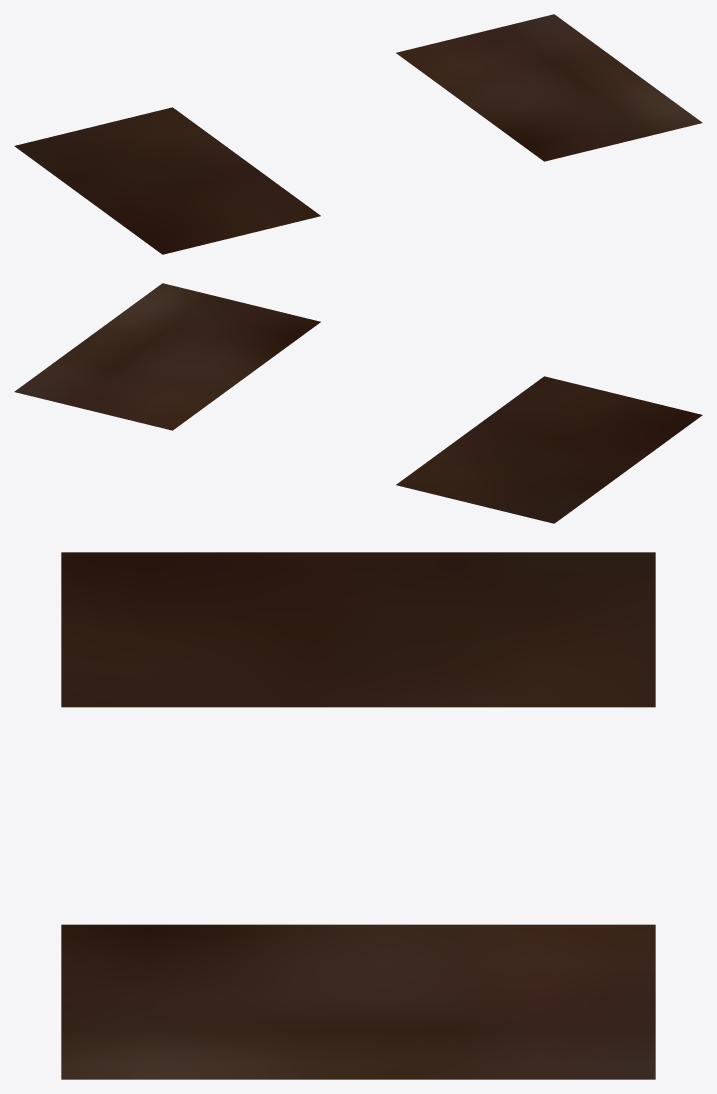
The model's file is pir_m_bld_wal_spanish_archB_footprint.fbx.
3 renders of one model, top to bottom at view 1: azimuth 30°, elevation 25°; view 2: azimuth 150°, elevation 25°; view 3: azimuth 270°, elevation 25°, orthographic. The views are drawn at different scales.
Visible parts, largest first — view 1: footprint; view 2: footprint; view 3: footprint.
Boxes of the visible parts, x1,y1,x2,y2 form: footprint: (14,14,702,254); footprint: (14,283,702,523); footprint: (61,552,655,1079).
Bounding box in the file's own units: 2993 × 0.000232 × 1426.
Materials: 1 (1 with a texture image).
